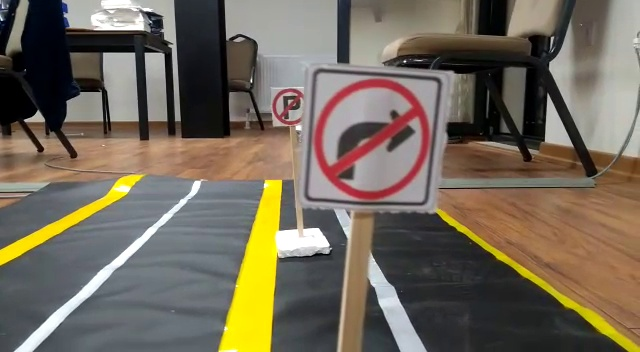park_yapilmaz: (271, 88, 308, 126)
saga_donulmez: (314, 71, 435, 205)
